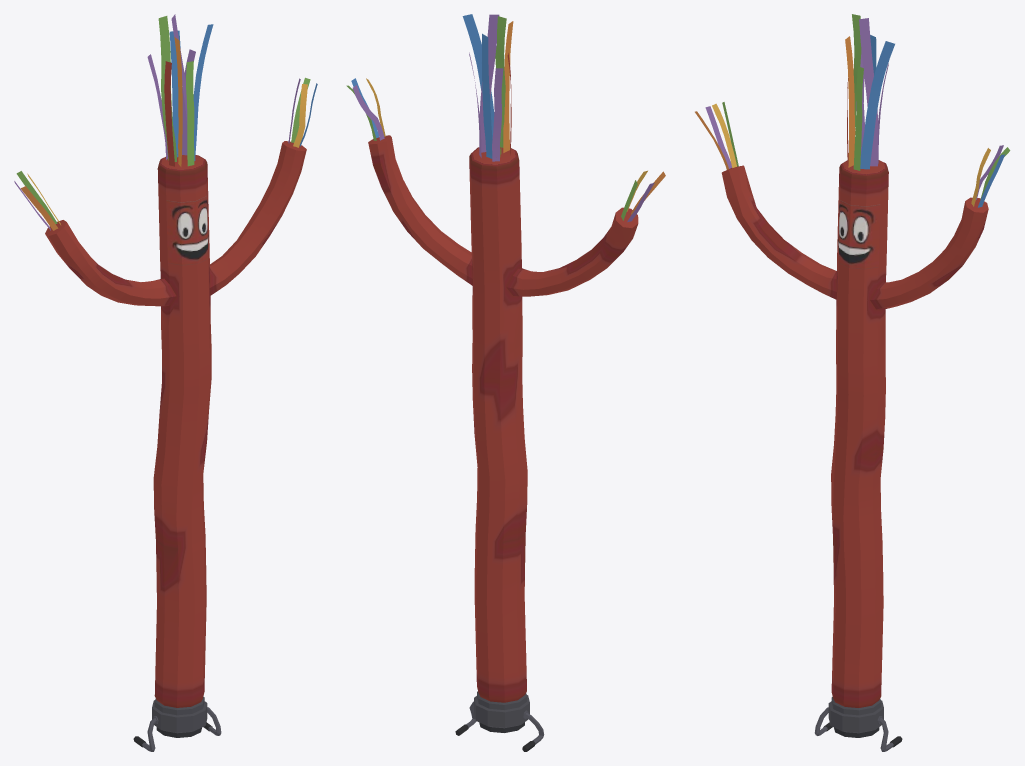
The model's file is tubeMan.glb.
The picture shows the model from 3 angles, left to right: view 1: azimuth 30°, elevation 25°; view 2: azimuth 150°, elevation 25°; view 3: azimuth 330°, elevation 25°; orthographic projection.
Parts seen in each view (by area): view 1: Tubeman, Streamers, Base; view 2: Tubeman, Streamers, Base; view 3: Tubeman, Streamers, Base.
Part boxes in pixels (box(x1,y1,x2,y2)): Tubeman: box(43, 137, 306, 709); Streamers: box(14, 14, 317, 222); Base: box(133, 697, 221, 751); Tubeman: box(368, 127, 638, 704); Streamers: box(346, 14, 665, 218); Base: box(455, 693, 544, 751); Tubeman: box(721, 149, 988, 710); Streamers: box(695, 14, 1010, 205); Base: box(814, 698, 902, 751).
Size of the model in its own units: 3.25 by 7.37 by 0.5879.
Materials: 1 (1 with a texture image).
